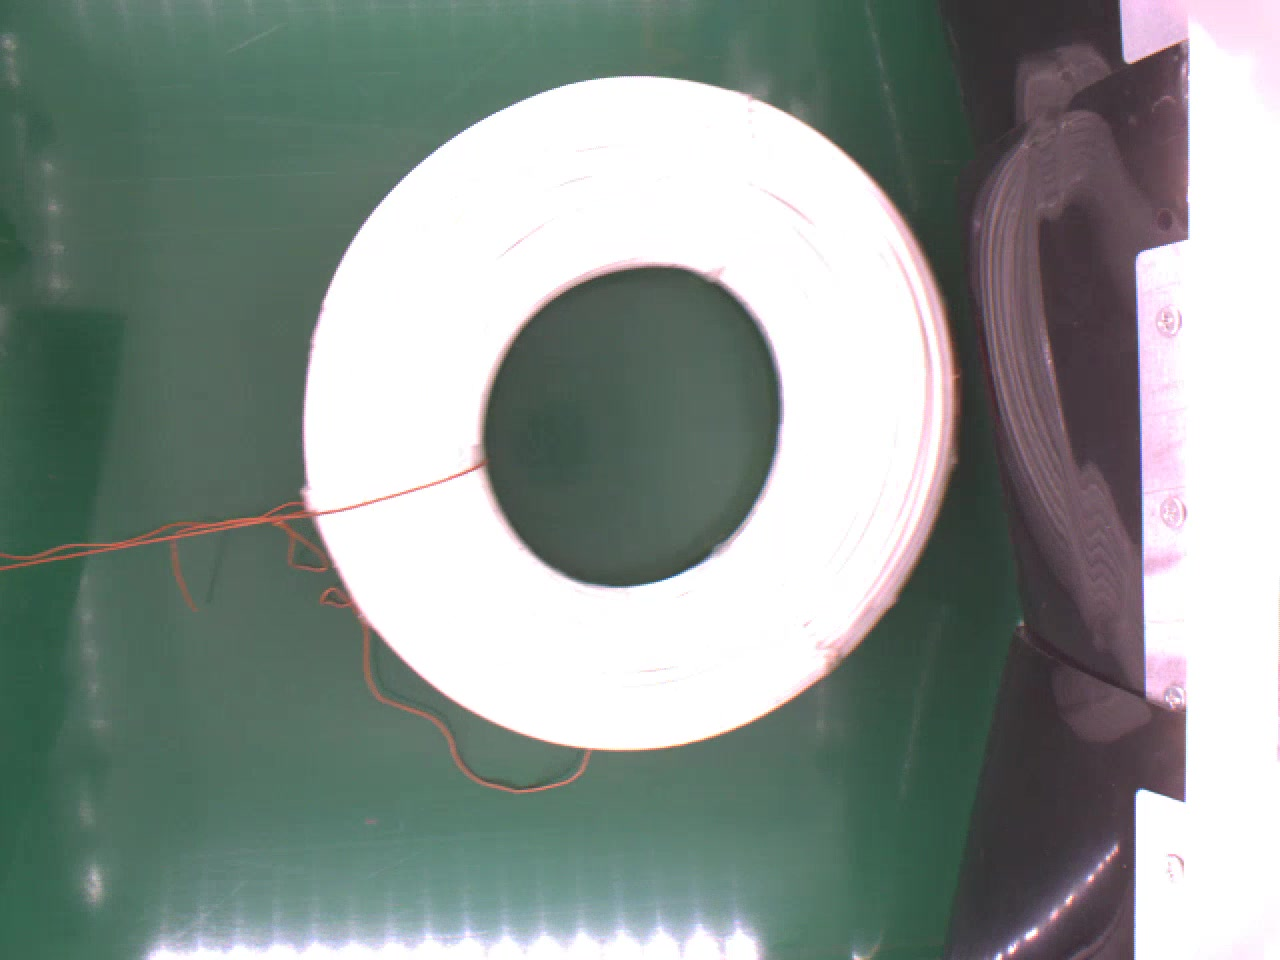white: (292, 71, 950, 751)
